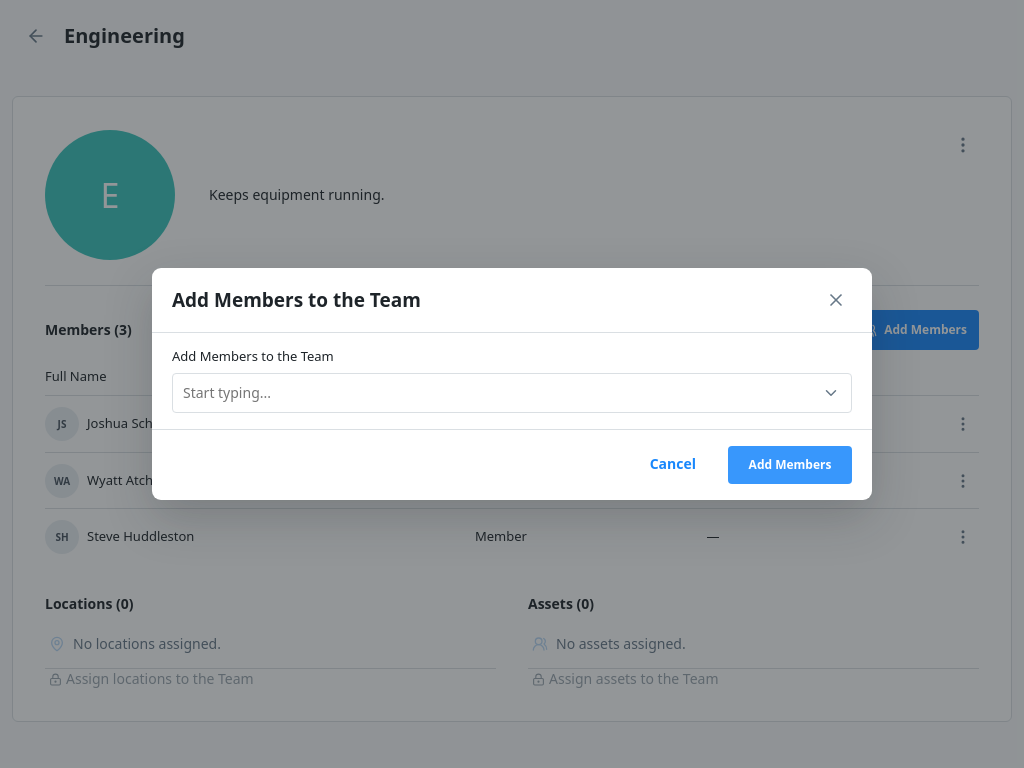
Scenario: TeamDetailsPage › opens the add members route modal and adds selected organization members
Check: the heading "Add Members to the Team" is shown, box [172,289,421,312]
Click the button named "Show available members" at (831, 393), box [811,374,851,412]
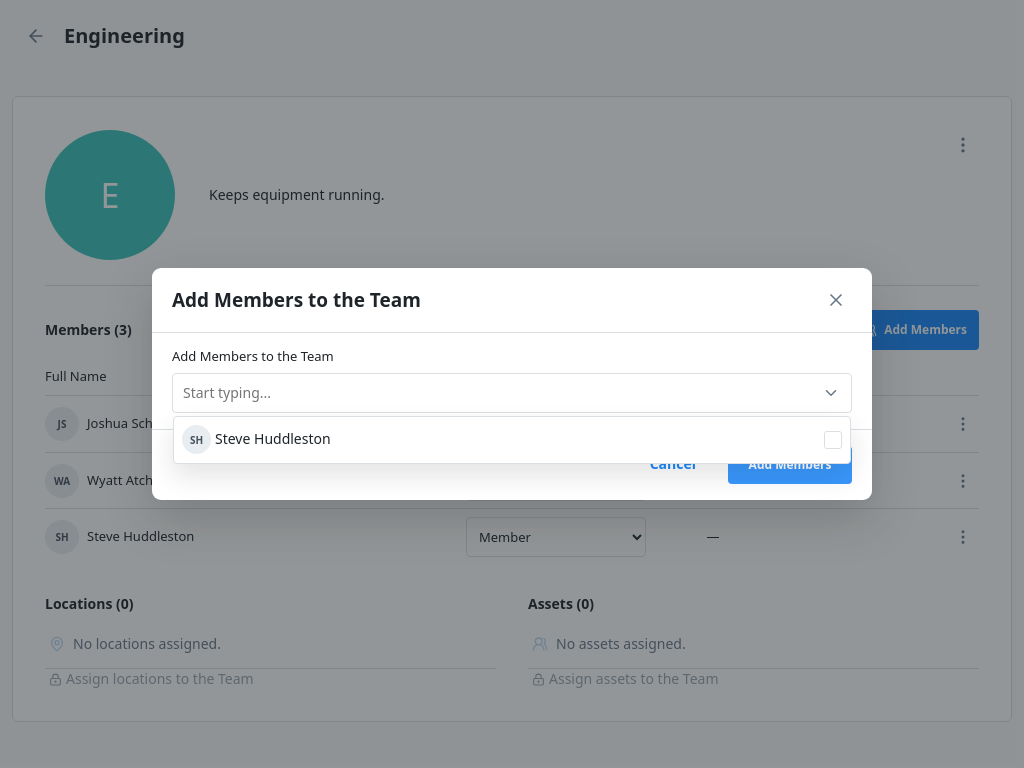
Click the option "SH Steve Huddleston" at (273, 439), box [174,421,850,459]
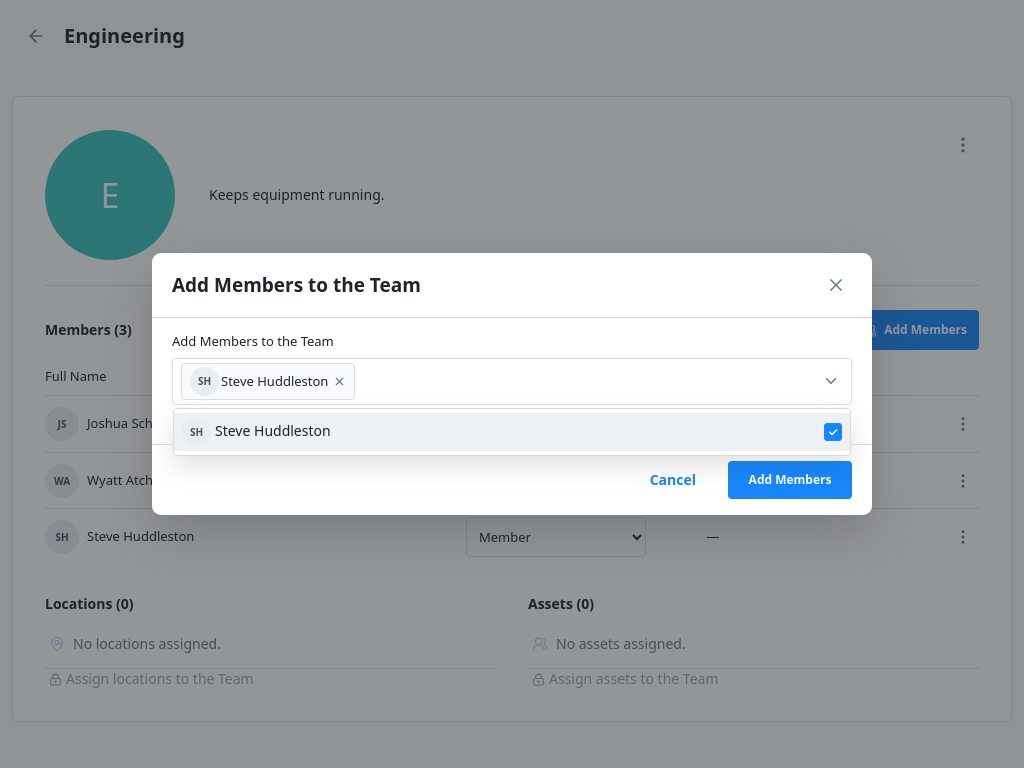
Check: the list is shown, box [173,408,851,456]
Press the mouse on the element that starts with "Engineering" at (512, 384), box [0,0,1023,767]
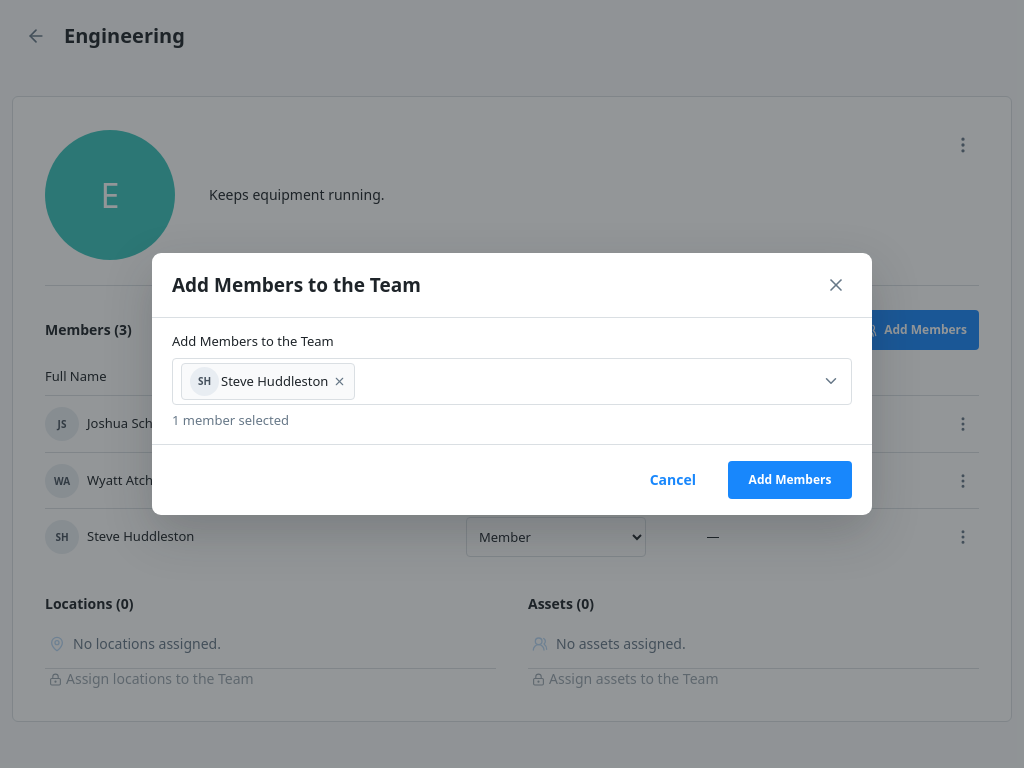
Check: the list is gone
Click the button "Add Members" at (790, 480), box [728,461,852,499]
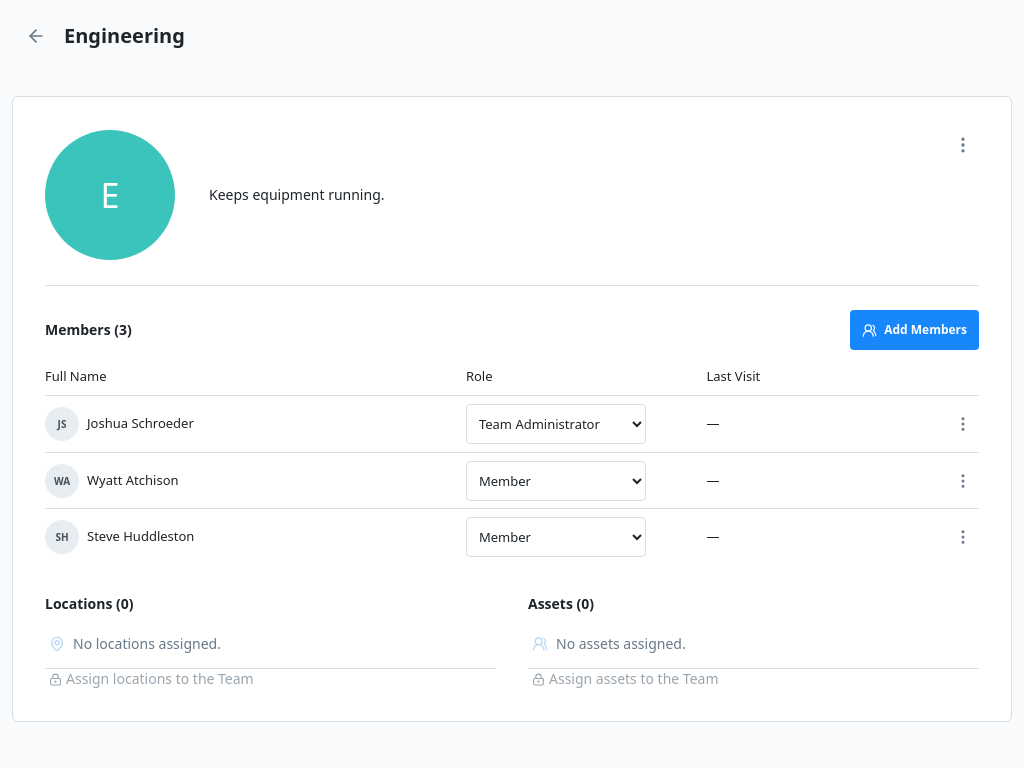
Check: the heading "Add Members to the Team" is gone
